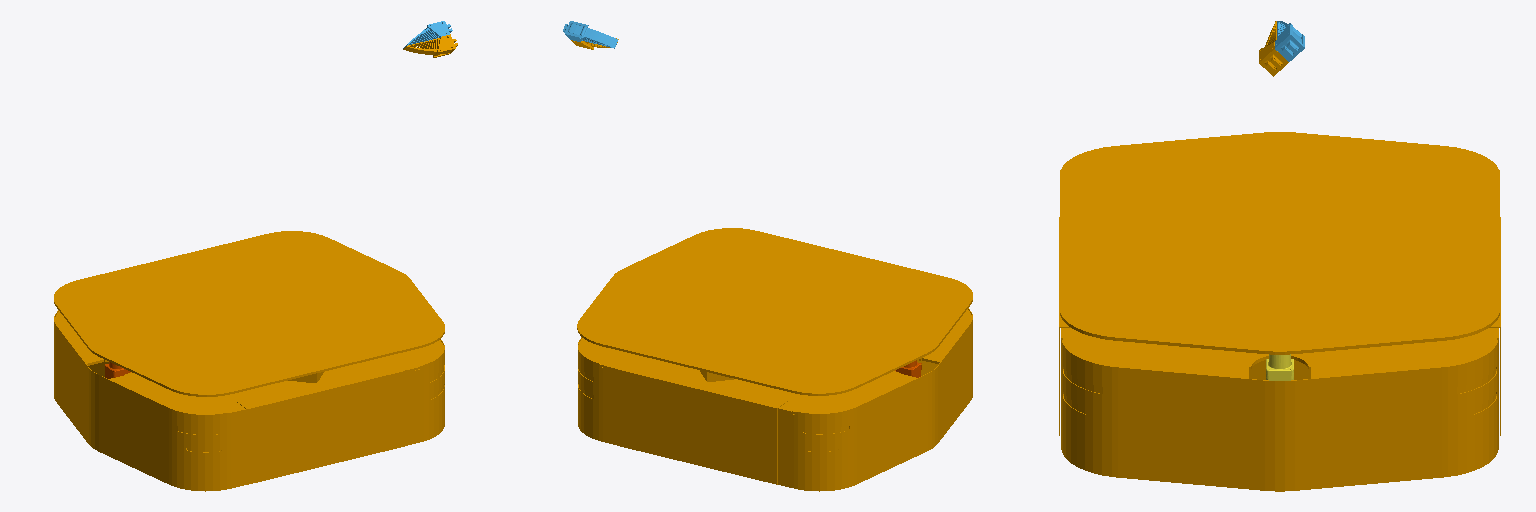
robot.urdf — base:
<?xml version="1.0" encoding="UTF-8"?>
<robot name="base">
  <joint name="dummy_base_prismatic_x_joint" type="prismatic">
    <origin xyz="0. 0. 0." rpy="0. 0. 0."/>
    <parent link="panda_mobile"/>
    <child link="dummy_base_x"/>
    <axis xyz="1. 0. 0."/>
    <limit lower="-2" upper="2" effort="4800." velocity="15."/>
  </joint>
  <joint name="dummy_base_prismatic_y_joint" type="prismatic">
    <origin xyz="0.0000004 0. 0. " rpy="0. 0. 1.5707964"/>
    <parent link="dummy_base_x"/>
    <child link="dummy_base_y"/>
    <axis xyz="1. 0. 0."/>
    <limit lower="-2" upper="2" effort="4800." velocity="15."/>
  </joint>
  <joint name="dummy_base_revolute_z_joint" type="revolute">
    <origin xyz="-0. 0. 0." rpy="-1.5707964 -1.5707964 0. "/>
    <parent link="dummy_base_y"/>
    <child link="base_link"/>
    <axis xyz="1. 0. 0."/>
    <limit lower="-1.5707964" upper="1.5707964" effort="4800." velocity="15.0000002"/>
  </joint>
  <joint name="front_laser_joint" type="fixed">
    <origin xyz="0.233 0. -0.3932" rpy="0. 1.5707963 0. "/>
    <parent link="base_link"/>
    <child link="front_laser"/>
  </joint>
  <joint name="rear_laser_joint" type="fixed">
    <origin xyz="0.233 -0. 0.3932" rpy="1.5707964 -1.5707958 1.5707964"/>
    <parent link="base_link"/>
    <child link="rear_laser"/>
  </joint>

  <joint name="base_fixed" type="fixed">
    <origin rpy="0 1.5707964 0" xyz="0.28 0 -0.3"/>
    <parent link="base_link"/>
    <child link="panda_link0"/>
    <axis xyz="0 0 0"/>
  </joint>



  <link name="base_link">
    <inertial>
      <origin xyz="0.012 0.002 0.067" rpy="0. 0. 0."/>
      <mass value="1000."/>
      <inertia ixx="4.4744" ixy="0." ixz="0." iyy="7.1623998" iyz="0." izz="4.6155"/>
    </inertial>
    <visual>
      <origin xyz="0. 0. -0." rpy="0. 1.5707963 0. "/>
      <geometry>
        <mesh filename="./meshes/base_link_visuals_mesh_0.obj" scale="1. 1. 1."/>
      </geometry>
    </visual>
    <visual>
      <origin xyz="0. 0. -0." rpy="1.5707964 -1.5707958 1.5707964"/>
      <geometry>
        <mesh filename="./meshes/base_link_visuals_mesh_1.obj" scale="1. 1. 1."/>
      </geometry>
    </visual>
    <visual>
      <origin xyz="0. 0. -0." rpy="0. 1.5707963 0. "/>
      <geometry>
        <mesh filename="./meshes/mesh_2.obj" scale="1. 1. 1."/>
      </geometry>
    </visual>
    <visual>
      <origin xyz="0. 0. -0." rpy="0. 1.5707963 0. "/>
      <geometry>
        <mesh filename="./meshes/mesh_3.obj" scale="1. 1. 1."/>
      </geometry>
    </visual>
    <visual>
      <origin xyz="0. 0. -0." rpy="1.5707964 -1.5707958 1.5707964"/>
      <geometry>
        <mesh filename="./meshes/mesh_4.obj" scale="1. 1. 1."/>
      </geometry>
    </visual>
    <visual>
      <origin xyz="0. 0. -0." rpy="0. 1.5707963 0. "/>
      <geometry>
        <mesh filename="./meshes/mesh_5.obj" scale="1. 1. 1."/>
      </geometry>
    </visual>
    <visual>
      <origin xyz="0. 0. -0." rpy="1.5707964 -1.5707958 1.5707964"/>
      <geometry>
        <mesh filename="./meshes/mesh_6.obj" scale="1. 1. 1."/>
      </geometry>
    </visual>
    <visual>
      <origin xyz="0. 0. -0." rpy="0. 1.5707963 0. "/>
      <geometry>
        <mesh filename="./meshes/mesh_7.obj" scale="1. 1. 1."/>
      </geometry>
    </visual>
    <collision>
      <origin xyz="0. 0. -0." rpy="0. 1.5707963 0. "/>
      <geometry>
        <mesh filename="./meshes/base_link_collisions_mesh_0.obj" scale="1. 1. 1."/>
      </geometry>
    </collision>
    <collision>
      <origin xyz="0. 0. -0." rpy="0. 1.5707963 0. "/>
      <geometry>
        <mesh filename="./meshes/base_link_collisions_mesh_1.obj" scale="1. 1. 1."/>
      </geometry>
    </collision>
  </link>
  <link name="dummy_base_x">
    <inertial>
      <origin xyz="0. 0. 0." rpy="0. 0. 0."/>
      <mass value="0.0001"/>
      <inertia ixx="0.001" ixy="0." ixz="0." iyy="0.001" iyz="0." izz="0.001"/>
    </inertial>
  </link>
  <link name="dummy_base_y">
    <inertial>
      <origin xyz="0. 0. 0." rpy="0. 0. 0."/>
      <mass value="0.0001"/>
      <inertia ixx="0.001" ixy="0." ixz="0." iyy="0.001" iyz="0." izz="0.001"/>
    </inertial>
  </link>
  <link name="front_laser">
    <inertial>
      <origin xyz="0. 0. 0." rpy="0. 0. 0."/>
      <mass value="0.13"/>
      <inertia ixx="0.0000802" ixy="0." ixz="0." iyy="0.0000802" iyz="0." izz="0.0000542"/>
    </inertial>
    <visual>
      <origin xyz="0. 0. 0." rpy="0. 0. 0."/>
      <geometry>
        <mesh filename="./meshes/front_laser_visuals.obj" scale="1. 1. 1."/>
      </geometry>
    </visual>
    <collision>
      <origin xyz="0. 0. -0.0122" rpy="0. 0. 0."/>
      <geometry>
        <box size="0.05 0.05 0.07"/>
      </geometry>
    </collision>
  </link>
  <link name="panda_mobile"/>
  <link name="rear_laser">
    <inertial>
      <origin xyz="0. 0. 0." rpy="0. 0. 0."/>
      <mass value="0.13"/>
      <inertia ixx="0.0000802" ixy="0." ixz="0." iyy="0.0000802" iyz="0." izz="0.0000542"/>
    </inertial>
    <visual>
      <origin xyz="0. -0. 0." rpy="0. 0. -0."/>
      <geometry>
        <mesh filename="./meshes/rear_laser_visuals.obj" scale="1. 1. 1."/>
      </geometry>
    </visual>
    <collision>
      <origin xyz="0. -0. -0.0122" rpy="0. 0. -0."/>
      <geometry>
        <box size="0.05 0.05 0.07"/>
      </geometry>
    </collision>
  </link>
  <link name="panda_link0">
    <visual>
      <geometry>
        <mesh filename="meshes/visual/link0.dae"/>
      </geometry>
    </visual>
    <collision>
      <geometry>
        <mesh filename="meshes/collision/link0.obj"/>
      </geometry>
    </collision>


  </link>
  <link name="panda_link1">
    <visual>
      <geometry>
        <mesh filename="meshes/visual/link1.dae"/>
      </geometry>
    </visual>
    <collision>
      <geometry>
        <mesh filename="meshes/collision/link1.obj"/>
      </geometry>
    </collision>
    <inertial>
      <origin rpy="0 0 0" xyz="0.00033 -0.02204 -0.04762"/>
      <mass value="2.797"/>
      <inertia ixx="0.0156" ixy="0.0" ixz="0.0" iyy="0.01439" iyz="-0.0024" izz="0.005"/>
    </inertial>
  </link>
  <joint name="panda_joint1" type="revolute">
    <safety_controller k_position="100.0" k_velocity="40.0" soft_lower_limit="-2.8973" soft_upper_limit="2.8973"/>
    <origin rpy="0 0 0" xyz="0 0 0.333"/>
    <parent link="panda_link0"/>
    <child link="panda_link1"/>
    <axis xyz="0 0 1"/>
    <dynamics damping="10.0"/>
    <limit effort="87" lower="-2.8973" upper="2.8973" velocity="2.1750"/>
  </joint>
  <link name="panda_link2">
    <visual>
      <geometry>
        <mesh filename="meshes/visual/link2.dae"/>
      </geometry>
    </visual>
    <collision>
      <geometry>
        <mesh filename="meshes/collision/link2.obj"/>
      </geometry>
    </collision>
    <inertial>
      <origin rpy="0 0 0" xyz="0.00038 -0.09211 0.01908"/>
      <mass value="2.542"/>
      <inertia ixx="0.0166" ixy="0.0" ixz="0.0" iyy="0.0046" iyz="0.0035" izz="0.015"/>
    </inertial>
  </link>
  <joint name="panda_joint2" type="revolute">
    <safety_controller k_position="100.0" k_velocity="40.0" soft_lower_limit="-1.7628" soft_upper_limit="1.7628"/>
    <origin rpy="-1.57079632679 0 0" xyz="0 0 0"/>
    <parent link="panda_link1"/>
    <child link="panda_link2"/>
    <axis xyz="0 0 1"/>
    <dynamics damping="10.0"/>
    <limit effort="87" lower="-1.7628" upper="1.7628" velocity="2.1750"/>
  </joint>
  <link name="panda_link3">
    <visual>
      <geometry>
        <mesh filename="meshes/visual/link3.dae"/>
      </geometry>
    </visual>
    <collision>
      <geometry>
        <mesh filename="meshes/collision/link3.obj"/>
      </geometry>
    </collision>
    <inertial>
      <origin rpy="0 0 0" xyz="0.05152 0.01696 -0.02971"/>
      <mass value="2.2513"/>
      <inertia ixx="0.006" ixy="0.009" ixz="0.003" iyy="0.0086" iyz="0.009" izz="0.0065"/>
    </inertial>
  </link>
  <joint name="panda_joint3" type="revolute">
    <safety_controller k_position="100.0" k_velocity="40.0" soft_lower_limit="-2.8973" soft_upper_limit="2.8973"/>
    <origin rpy="1.57079632679 0 0" xyz="0 -0.316 0"/>
    <parent link="panda_link2"/>
    <child link="panda_link3"/>
    <axis xyz="0 0 1"/>
    <dynamics damping="10.0"/>
    <limit effort="87" lower="-2.8973" upper="2.8973" velocity="2.1750"/>
  </joint>
  <link name="panda_link4">
    <visual>
      <geometry>
        <mesh filename="meshes/visual/link4.dae"/>
      </geometry>
    </visual>
    <collision>
      <geometry>
        <mesh filename="meshes/collision/link4.obj"/>
      </geometry>
    </collision>
    <inertial>
      <origin rpy="0 0 0" xyz="-0.05113 0.05825 0.01698"/>
      <mass value="2.2037"/>
      <inertia ixx="0.0156" ixy="0.0" ixz="0.0" iyy="0.01439" iyz="-0.0024" izz="0.005"/>
    </inertial>
  </link>
  <joint name="panda_joint4" type="revolute">
    <safety_controller k_position="100.0" k_velocity="40.0" soft_lower_limit="-3.0718" soft_upper_limit="-0.0698"/>
    <origin rpy="1.57079632679 0 0" xyz="0.0825 0 0"/>
    <parent link="panda_link3"/>
    <child link="panda_link4"/>
    <axis xyz="0 0 1"/>
    <dynamics damping="10.0"/>
    <limit effort="87" lower="-3.0718" upper="-0.0698" velocity="2.1750"/>
    <!-- something is weird with this joint limit config
    <dynamics damping="10.0"/>
    <limit effort="87" lower="-3.0" upper="0.087" velocity="2.1750"/>  -->
  </joint>
  <link name="panda_link5">
    <visual>
      <geometry>
        <mesh filename="meshes/visual/link5.dae"/>
      </geometry>
    </visual>
    <collision>
      <geometry>
        <mesh filename="meshes/collision/link5.obj"/>
      </geometry>
    </collision>
    <inertial>
      <origin rpy="0 0 0" xyz="-0.00005 0.03730 -0.09280"/>
      <mass value="2.2855"/>
      <inertia ixx="0.02297014781" ixy="0.0" ixz="0.0" iyy="0.02095060919" iyz="0.00382345782" izz="0.00430606551"/>
    </inertial>
  </link>
  <joint name="panda_joint5" type="revolute">
    <safety_controller k_position="100.0" k_velocity="40.0" soft_lower_limit="-2.8973" soft_upper_limit="2.8973"/>
    <origin rpy="-1.57079632679 0 0" xyz="-0.0825 0.384 0"/>
    <parent link="panda_link4"/>
    <child link="panda_link5"/>
    <axis xyz="0 0 1"/>
    <dynamics damping="10.0"/>
    <limit effort="12" lower="-2.8973" upper="2.8973" velocity="2.6100"/>
  </joint>
  <link name="panda_link6">
    <visual>
      <geometry>
        <mesh filename="meshes/visual/link6.dae"/>
      </geometry>
    </visual>
    <collision>
      <geometry>
        <mesh filename="meshes/collision/link6.obj"/>
      </geometry>
    </collision>
    <inertial>
      <origin rpy="0 0 0" xyz="0.06572 -0.00371 0.00153"/>
      <mass value="1.353"/>
      <inertia ixx="0.00087964522" ixy="-0.00021487814" ixz="-0.00011911662" iyy="0.00277796968" iyz="0.00001274322" izz="0.00286701969"/>
    </inertial>
  </link>
  <joint name="panda_joint6" type="revolute">
    <safety_controller k_position="100.0" k_velocity="40.0" soft_lower_limit="-0.0175" soft_upper_limit="3.7525"/>
    <origin rpy="1.57079632679 0 0" xyz="0 0 0"/>
    <parent link="panda_link5"/>
    <child link="panda_link6"/>
    <axis xyz="0 0 1"/>
    <dynamics damping="10.0"/>
    <limit effort="12" lower="-0.0175" upper="3.7525" velocity="2.6100"/>
    <!-- <dynamics damping="10.0"/>
    <limit effort="12" lower="-0.0873" upper="3.0" velocity="2.6100"/> -->
  </joint>
  <link name="panda_link7">
    <visual>
      <geometry>
        <mesh filename="meshes/visual/link7.dae"/>
      </geometry>
    </visual>
    <collision>
      <geometry>
        <mesh filename="meshes/collision/link7.obj"/>
      </geometry>
    </collision>
        <inertial>
      <origin rpy="0 0 0" xyz="0.00089 -0.00044 0.05491"/>
      <mass value="0.35973"/>
      <inertia ixx="0.00019541063" ixy="0.00000165231" ixz="0.00000148826" iyy="0.00019210361" iyz="-0.00000131132" izz="0.00017936256"/>
    </inertial>
  </link>
  <joint name="panda_joint7" type="revolute">
    <safety_controller k_position="100.0" k_velocity="40.0" soft_lower_limit="-2.8973" soft_upper_limit="2.8973"/>
    <origin rpy="1.57079632679 0 0" xyz="0.088 0 0"/>
    <parent link="panda_link6"/>
    <child link="panda_link7"/>
    <axis xyz="0 0 1"/>
    <dynamics damping="10.0"/>
    <limit effort="12" lower="-2.8973" upper="2.8973" velocity="2.6100"/>
  </joint>

  <link name="panda_link8"/>
  <joint name="panda_joint8" type="fixed">
    <origin rpy="0 0 0" xyz="0 0 0.107"/>
    <parent link="panda_link7"/>
    <child link="panda_link8"/>
    <axis xyz="0 0 0"/>
  </joint>
  <joint name="panda_hand_joint" type="fixed">
    <parent link="panda_link8"/>
    <child link="panda_hand"/>

    <origin rpy="0 0 -0.785398163397" xyz="0 0 0"/>
  </joint>
  <link name="panda_hand">
    <visual>
      <geometry>
        <mesh filename="meshes/visual/hand.dae"/>
      </geometry>
    </visual>
    <collision>
      <geometry>
        <mesh filename="meshes/collision/hand.obj"/>
      </geometry>
    </collision>
  </link>
  <link name="panda_leftfinger">
    <visual>
      <origin rpy="3.14159265 0 1.518436" xyz="0.19396 0.18106 -0.03563"/>
      <geometry>
        <mesh filename="meshes/visual/umi_gripper.obj"/>
      </geometry>
    </visual>
    <collision>
      <geometry>
        <mesh filename="meshes/collision/umi_gripper.obj"/>
      </geometry>
    </collision>
  </link>
  <link name="panda_rightfinger">
    <visual>
      <origin rpy="3.14159265 0 -1.623156" xyz="-0.19043 -0.18753 -0.03563"/>
      <geometry>
        <mesh filename="meshes/visual/umi_gripper.obj"/>
      </geometry>
    </visual>
    <collision>
      <geometry>
        <mesh filename="meshes/collision/umi_gripper.obj"/>
      </geometry>
    </collision>
  </link>
  <joint name="panda_finger_joint1" type="prismatic">
    <parent link="panda_hand"/>
    <child link="panda_leftfinger"/>
    <origin rpy="0 0 0" xyz="0 0 0.0584"/>
    <axis xyz="0 1 0"/>
    <dynamics damping="10.0"/>
    <limit effort="20" lower="0.0" upper="0.04" velocity="0.2"/>
  </joint>
  <joint name="panda_finger_joint2" type="prismatic">
    <parent link="panda_hand"/>
    <child link="panda_rightfinger"/>
    <origin rpy="0 0 0" xyz="0 0 0.0584"/>
    <axis xyz="0 -1 0"/>
    <dynamics damping="10.0"/>
    <limit effort="20" lower="0.0" upper="0.04" velocity="0.2"/>
  </joint>

  <link name="ee_link"/>

  <joint name="ee_fixed_joint" type="fixed">
    <parent link="panda_hand"/>
    <child link="ee_link"/>
    <origin rpy="0 0.0 0" xyz="0.0 0.0 0.0"/>
  </joint>
  <link name="right_gripper">
    <inertial>
      <!-- Dummy inertial parameters to avoid link lumping-->
      <mass value="0.01"/>
      <inertia ixx="0.0001" ixy="0.0" ixz="0.0" iyy="0.0001" iyz="0.0" izz="0.0001"/>
      <origin rpy="0 0 0" xyz="0 0 0"/>
    </inertial>
  </link>
  <joint name="right_gripper" type="fixed">
    <!--<origin rpy="0 0 2.35619449019" xyz="0 0 0.1"/>-->
    <origin rpy="0 0 2.35619449019" xyz="0 0 0.207"/>
    <axis xyz="0 0 1"/>
    <parent link="panda_link7"/>
    <!--<parent link="panda_link8"/>-->
    <child link="right_gripper"/>
  </joint>

</robot>

--- What the picture shows (computed from the rendered views, not written in the file) ---
Views: 3 orthographic renders of the robot side by side, from view 1: azimuth 30°, elevation 25°; view 2: azimuth 150°, elevation 25°; view 3: azimuth 270°, elevation 25°.
Robot: base — 20 links, 19 joints (8 revolute, 4 prismatic, 7 fixed); root link panda_mobile; default pose: joints at zero except 1 at the middle of their limits (panda_joint4 = -1.57).
Links seen in each view (by area): view 1: base_link, panda_leftfinger; view 2: base_link, panda_rightfinger; view 3: base_link, panda_rightfinger, panda_leftfinger, front_laser.
Link boxes in pixels (bbox=[...]): base_link: bbox=[54, 231, 444, 491]; panda_leftfinger: bbox=[403, 34, 457, 57]; base_link: bbox=[577, 228, 972, 491]; panda_rightfinger: bbox=[563, 21, 617, 48]; base_link: bbox=[1059, 132, 1500, 491]; panda_rightfinger: bbox=[1275, 21, 1304, 61]; panda_leftfinger: bbox=[1259, 21, 1288, 76]; front_laser: bbox=[1266, 354, 1293, 380].
Bounding box of the posed robot: 1.07 × 0.7932 × 0.9627 m (x, y, z).
12 mesh visuals loaded from 20 distinct referenced files (11 OBJ); not drawn: 9 (reference not matched to a file when rendering).
